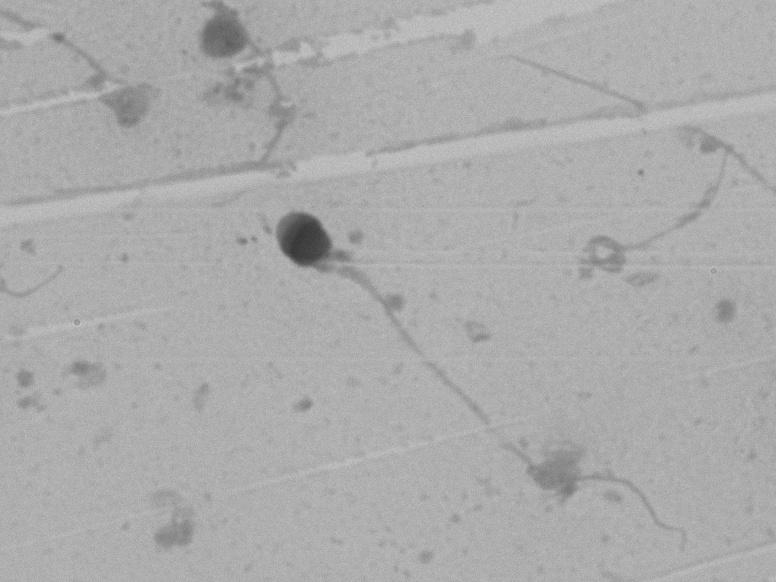Abnormal: (212, 187, 585, 480)
